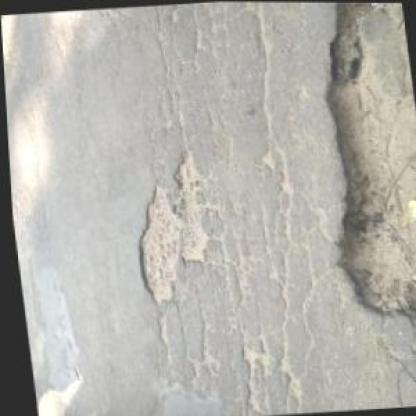pothole: (295, 2, 415, 396), (121, 146, 212, 305)
